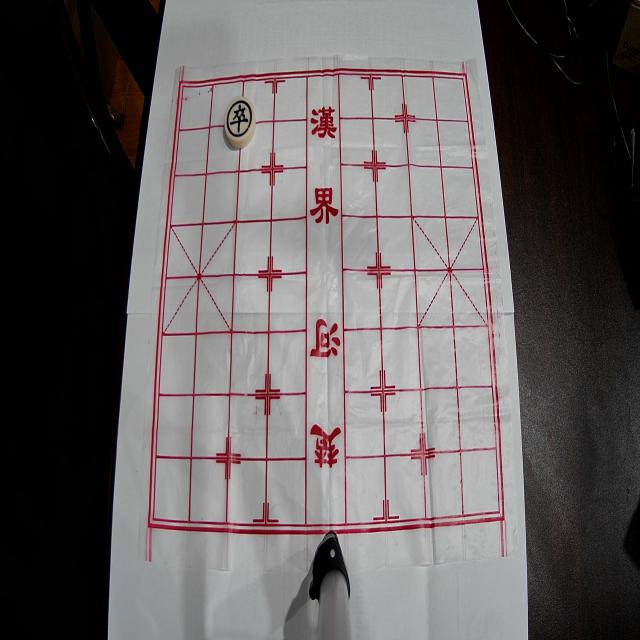black-soldier: (224, 96, 256, 148)
